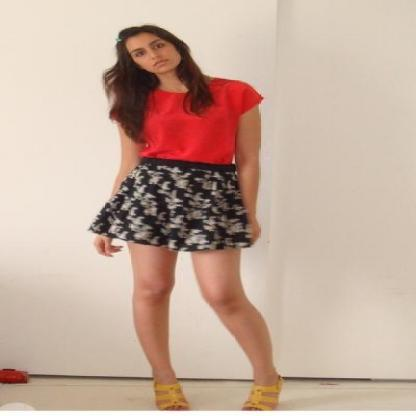shirt: (137, 75, 261, 164)
shoe: (153, 384, 286, 411)
skirt: (89, 158, 259, 252)
